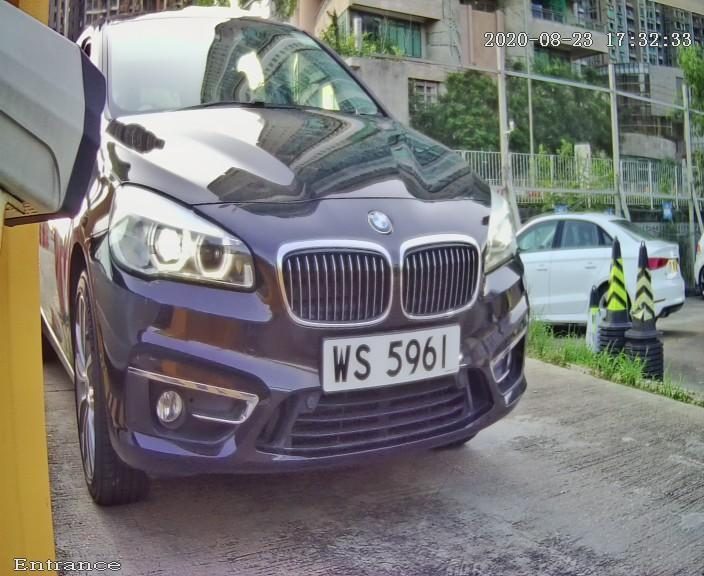Car: (32, 19, 582, 517)
License Plate: (294, 308, 503, 410)
